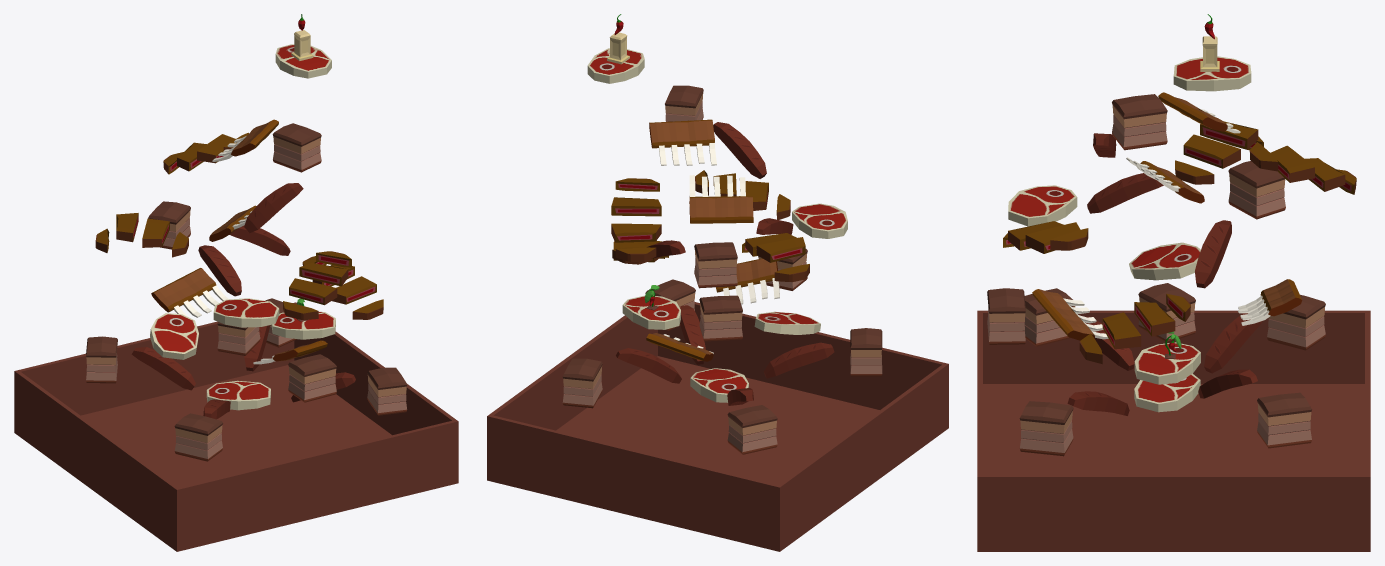
File: Level2.fbx
The picture shows the model from 3 angles, left to right: view 1: azimuth 30°, elevation 25°; view 2: azimuth 150°, elevation 25°; view 3: azimuth 270°, elevation 25°; orthographic projection. The views are drawn at different scales.
Visible parts, largest first — view 1: hole.002, Cube.013, Cube.010, Cube.012, Cube.011, steak.042, steak.029, Pork belly.014, Pork belly.013, Pork belly.007, steak.032, steak.037 (+17 smaller); view 2: hole.002, Cube.012, Cube.010, Cube.013, Cube.011, steak.040, steak.041, steak.038, Pork belly.010, steak.037, Pork belly.009, Pork belly.012 (+17 smaller); view 3: Cube.011, hole.002, Cube.010, steak.036, steak.037, Pork belly.014, Pork belly.008, Pork belly.011, Pork belly.009, steak.040, Pork belly.010, steak.039 (+22 smaller).
Part boxes in pixels (x1,y1,x2,y2): hole.002: (14,365,458,551); Cube.013: (179,420,454,547); Cube.010: (14,370,180,548); Cube.012: (18,321,294,415); Cube.011: (293,302,458,480); steak.042: (283,251,351,319); steak.029: (151,268,228,317); Pork belly.014: (272,123,321,172); Pork belly.013: (288,354,336,402); Pork belly.007: (174,413,222,461); steak.032: (150,313,198,359); steak.037: (95,213,188,257); hole.002: (487,356,948,551); Cube.012: (491,415,777,547); Cube.010: (775,363,948,548); Cube.013: (658,302,944,409); Cube.011: (487,315,657,477); steak.040: (611,178,661,261); steak.041: (689,175,753,223); steak.038: (649,119,716,165); Pork belly.010: (727,405,777,454); steak.037: (742,233,809,282); Pork belly.009: (694,242,737,288); Pork belly.012: (699,295,742,341); Cube.011: (977,474,1370,547); hole.002: (977,384,1370,551); Cube.010: (977,310,1370,383); steak.036: (1079,293,1190,364); steak.037: (1175,121,1263,184); Pork belly.014: (1112,94,1167,150); Pork belly.008: (1257,392,1311,448); Pork belly.011: (1019,401,1073,456); Pork belly.009: (1228,161,1285,219); steak.040: (1249,142,1356,194); Pork belly.010: (1267,294,1325,350); steak.039: (1008,185,1077,226).
Bounding box in the file's own units: 5974 × 8402 × 5974.
Materials: 20 (4 with a texture image).
